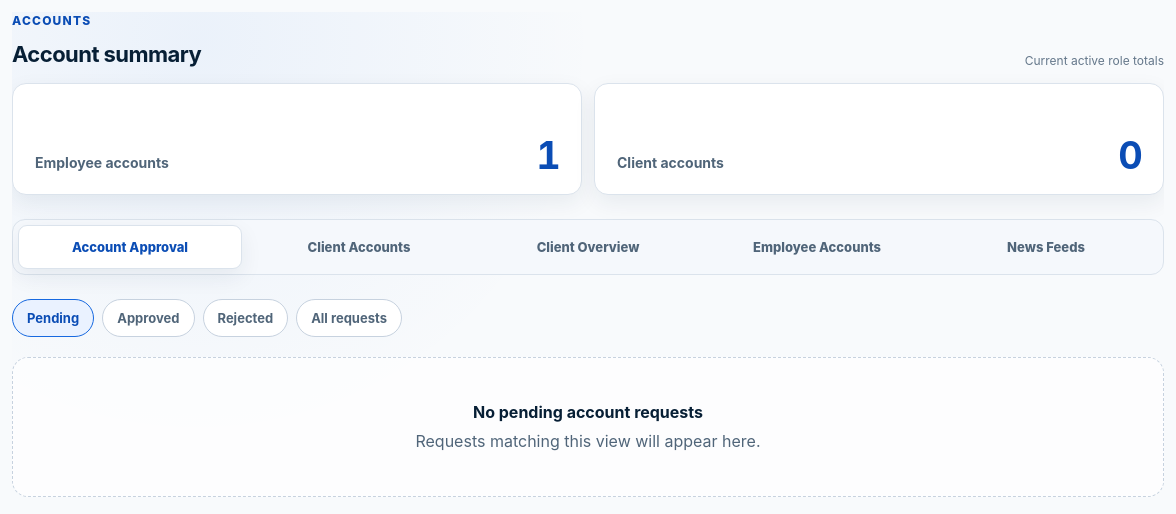
Test: account request and employee summary UI › shows employee names and emails without an employee-removal action
The image size is (1176, 514).
What coordinates should you click on to do the following:
click the tab "Employee Accounts"
I would click on:
 (817, 247)
Its box is [705,225,929,269].
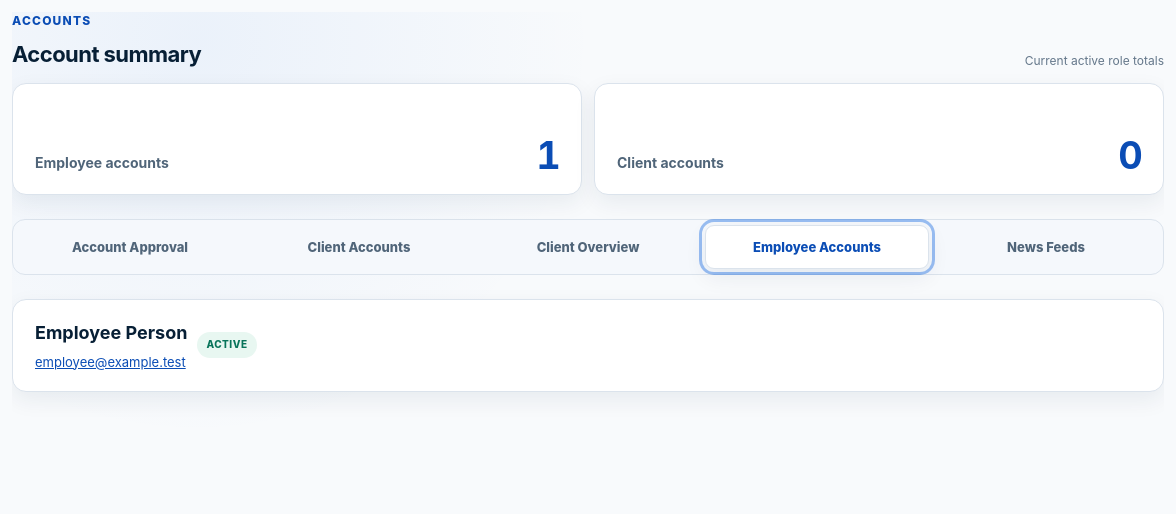
Now the heading "Employee Person" is shown, box [35,319,187,347]
Now the link "employee@example.test" is shown, box [35,352,187,372]
